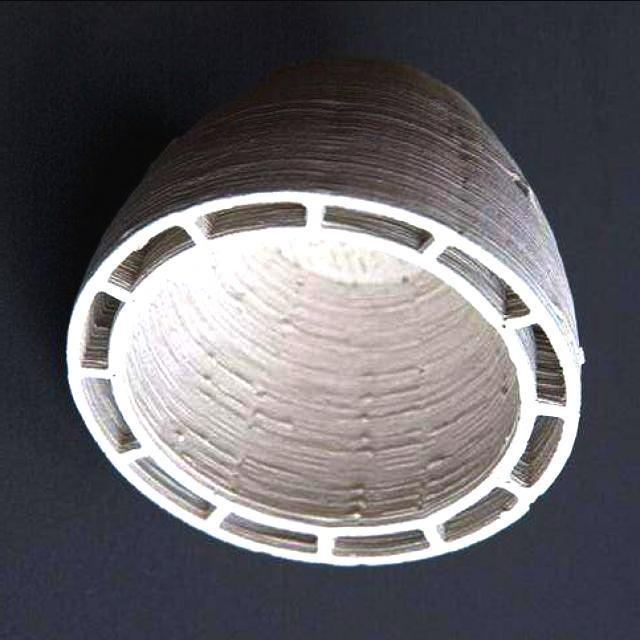blobs: (356, 439, 378, 462), (172, 423, 194, 443), (352, 478, 369, 502), (280, 316, 300, 336), (344, 507, 364, 525), (356, 404, 374, 424), (352, 492, 374, 508), (354, 429, 373, 444), (357, 390, 373, 406)
